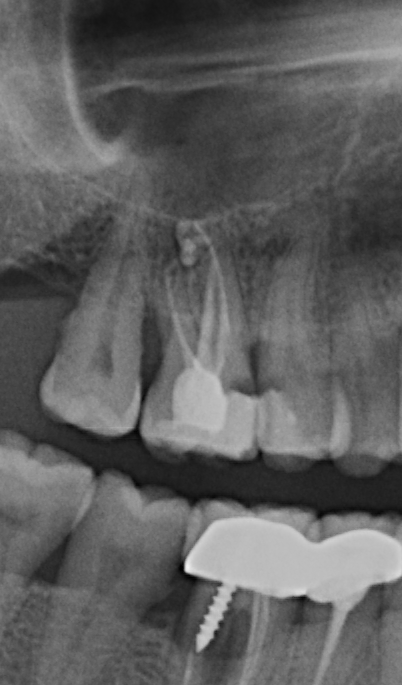fracture: (176, 654, 194, 685)
